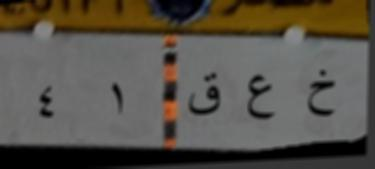1: (109, 78, 132, 123)
4: (36, 83, 57, 124)
ain: (244, 70, 281, 126)
khaa: (303, 64, 340, 122)
qaaf: (186, 67, 226, 125)
